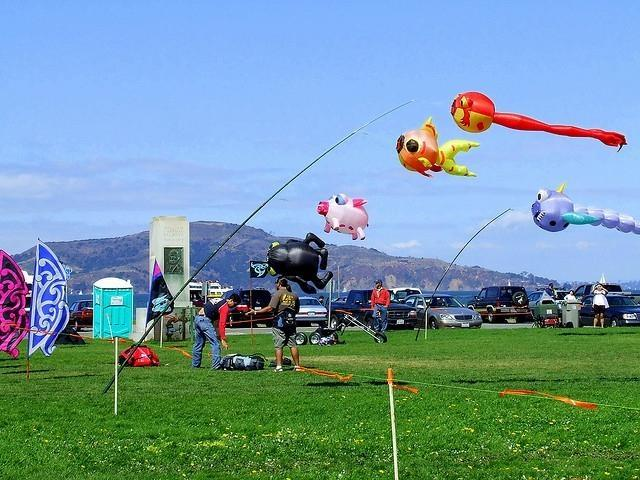car: (400, 292, 484, 330), (580, 292, 640, 328), (220, 288, 274, 328), (296, 296, 328, 327), (528, 290, 559, 317), (574, 283, 623, 300), (69, 300, 93, 332)
truck: (332, 288, 418, 330), (466, 286, 532, 326), (216, 288, 274, 328)
